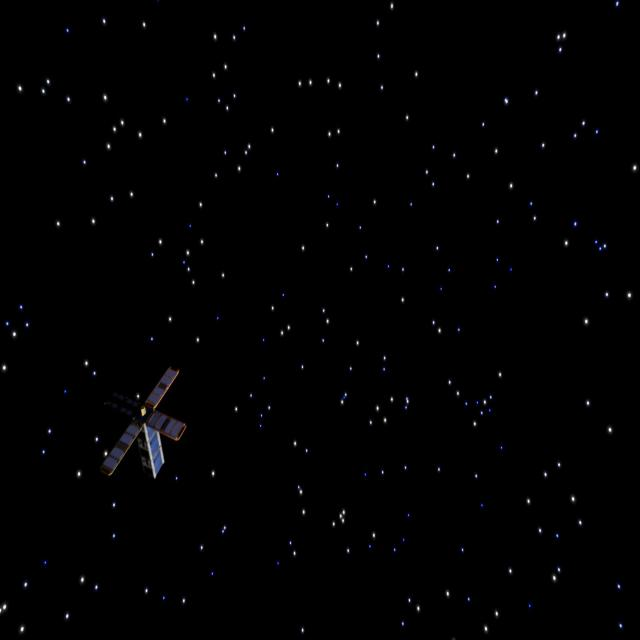satellite: (92, 363, 194, 500)
